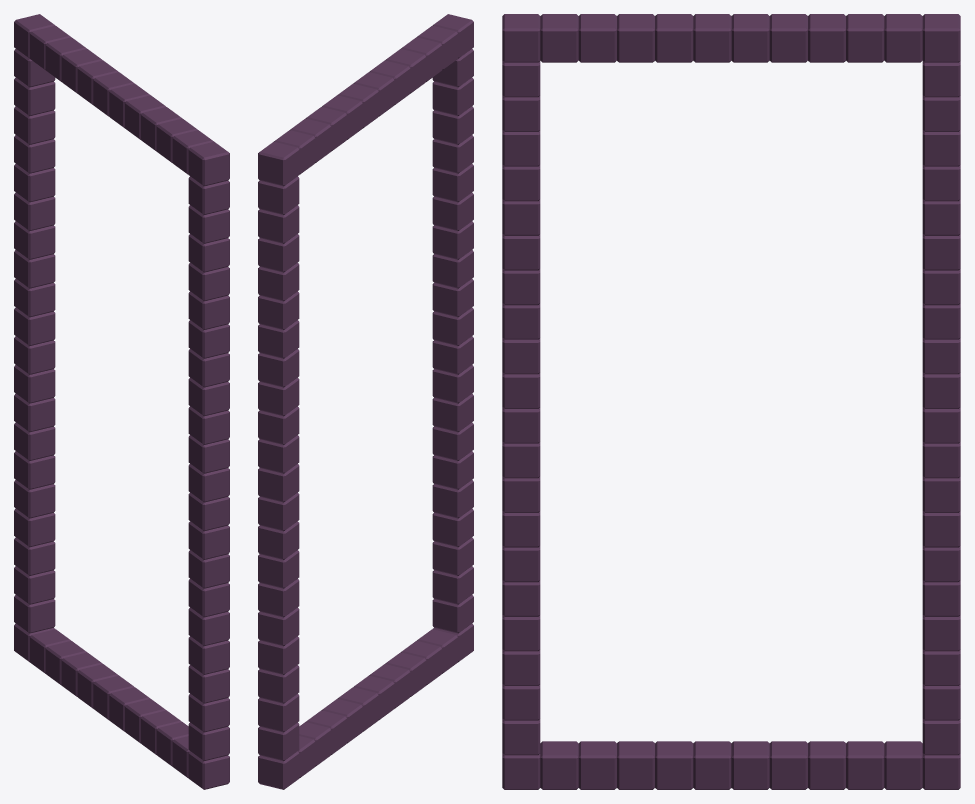
Rendered from Stage.fbx.
3 views of the same model, side by side, from view 1: azimuth 30°, elevation 25°; view 2: azimuth 150°, elevation 25°; view 3: azimuth 270°, elevation 25° (orthographic). The views are drawn at different scales.
Visible parts, largest first — view 1: Cube; view 2: Cube; view 3: Cube.
Part boxes in pixels (x1,y1,x2,y2): Cube: [14, 14, 229, 789]; Cube: [258, 14, 473, 789]; Cube: [502, 14, 960, 789].
Bounding box in the file's own units: 200 × 4400 × 2400.
